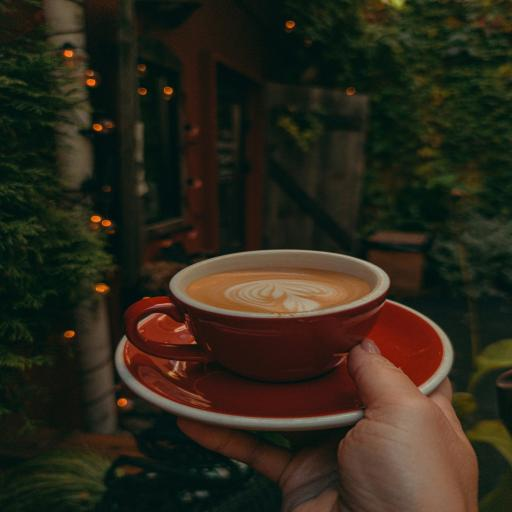cup: (124, 248, 390, 384)
